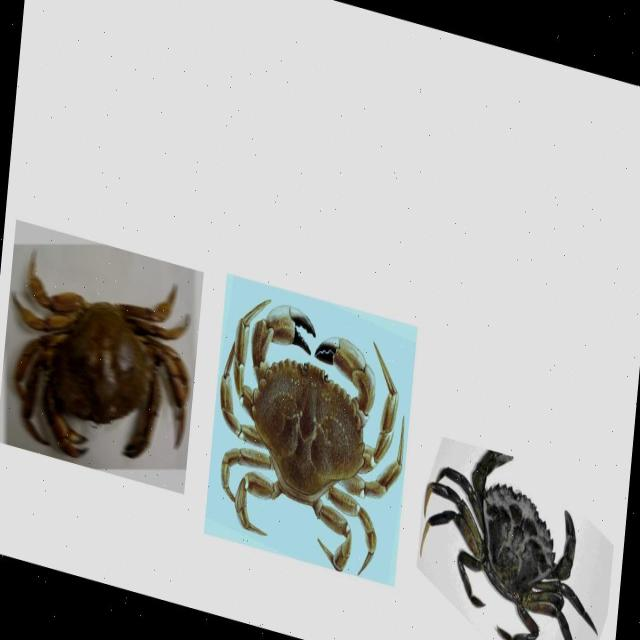egc: (418, 449, 598, 640)
